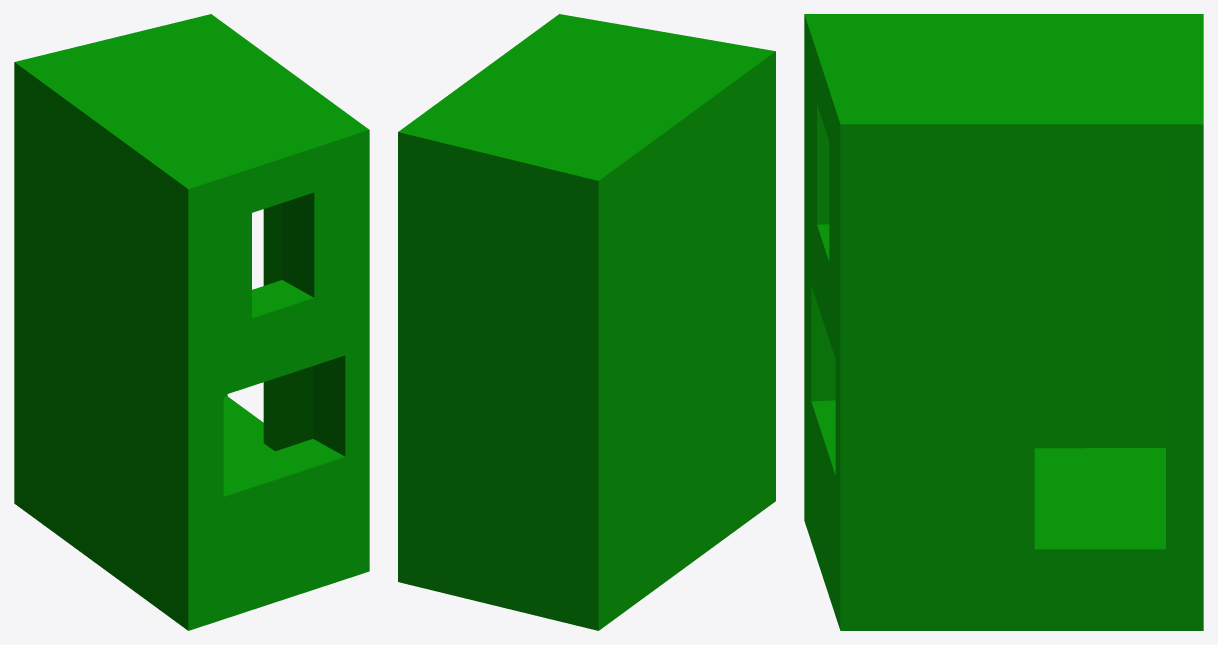
The model's file is salle1_rdc.obj.
The picture shows the model from 3 angles, left to right: view 1: azimuth 30°, elevation 25°; view 2: azimuth 150°, elevation 25°; view 3: azimuth 270°, elevation 25°; orthographic projection. The views are drawn at different scales.
Visible parts, largest first — view 1: Salle1_RDC_Cube.006; view 2: Salle1_RDC_Cube.006; view 3: Salle1_RDC_Cube.006.
Part boxes in pixels (x1,y1,x2,y2): Salle1_RDC_Cube.006: (14,14,369,630); Salle1_RDC_Cube.006: (398,14,775,630); Salle1_RDC_Cube.006: (804,14,1203,630).
Bounding box in the file's own units: 1.45 × 3.1 × 2.21.
